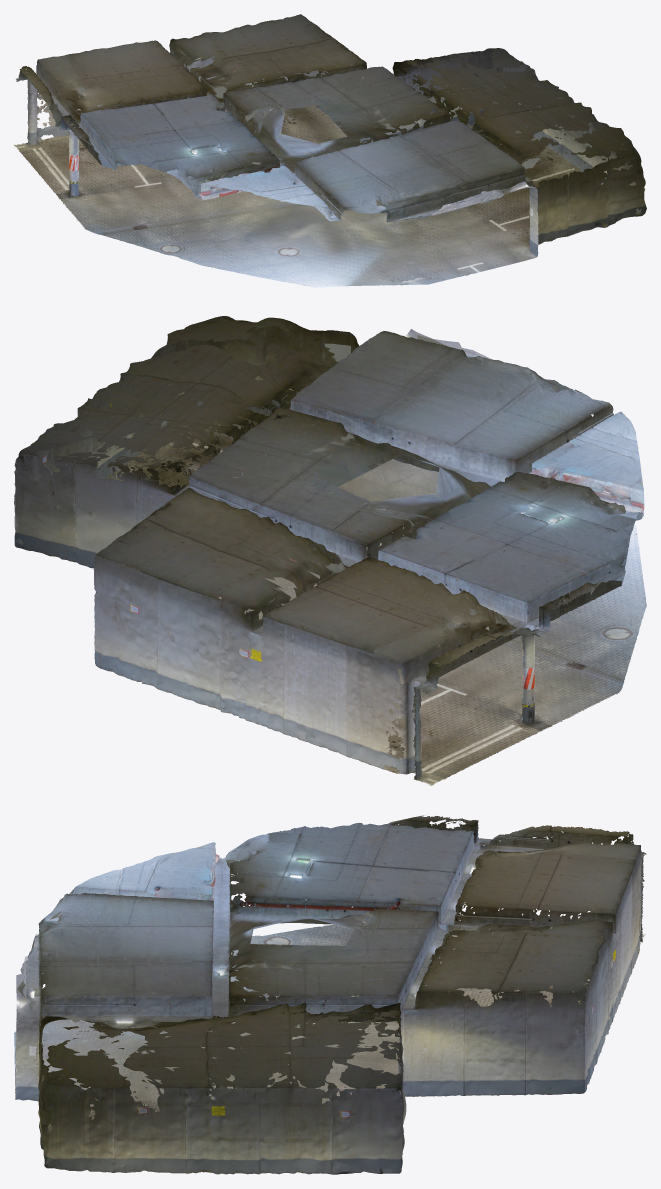
File: parking_garage (1).glb
The picture shows the model from 3 angles, top to bottom: view 1: azimuth 30°, elevation 25°; view 2: azimuth 150°, elevation 25°; view 3: azimuth 270°, elevation 25°; orthographic projection. The views are drawn at different scales.
Visible parts, largest first — view 1: Object_4, Object_6, Object_7, Object_2, Object_3, Object_8, Object_5, Object_9; view 2: Object_6, Object_7, Object_3, Object_4, Object_2, Object_8, Object_5, Object_9; view 3: Object_2, Object_4, Object_6, Object_7, Object_3, Object_8, Object_5, Object_9.
Part boxes in pixels (box(x1,y1,x2,y2)): Object_4: box(27, 20, 644, 286); Object_6: box(16, 16, 645, 285); Object_7: box(20, 25, 646, 280); Object_2: box(14, 14, 645, 287); Object_3: box(23, 14, 609, 276); Object_8: box(22, 22, 646, 283); Object_5: box(16, 17, 642, 285); Object_9: box(20, 27, 644, 285); Object_6: box(46, 316, 645, 774); Object_7: box(14, 330, 646, 767); Object_3: box(14, 331, 631, 758); Object_4: box(14, 316, 645, 777); Object_2: box(52, 316, 646, 785); Object_8: box(14, 316, 642, 771); Object_5: box(15, 317, 645, 783); Object_9: box(14, 321, 646, 771); Object_2: box(14, 816, 645, 1174); Object_4: box(21, 819, 641, 1174); Object_6: box(14, 815, 646, 1173); Object_7: box(25, 820, 641, 1174); Object_3: box(22, 819, 640, 1174); Object_8: box(15, 817, 636, 1174); Object_5: box(15, 818, 643, 1174); Object_9: box(14, 816, 642, 1174).
Size of the model in its own units: 16.78 by 3.32 by 16.9.
2 materials, 2 textured.
